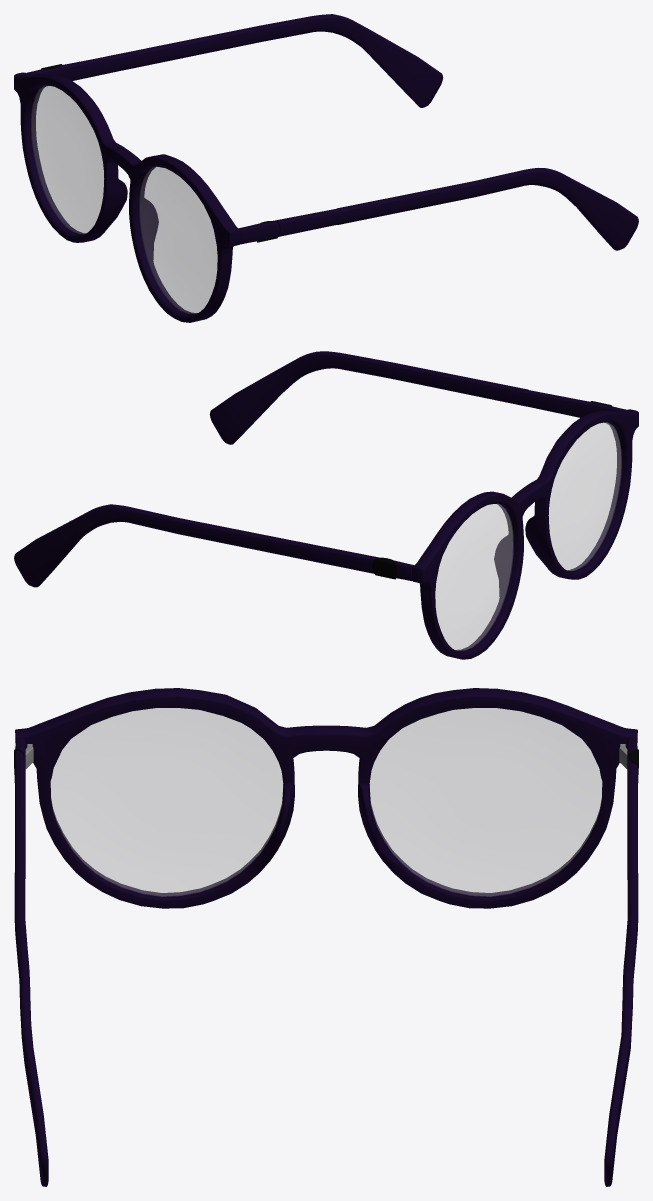
The model's file is sunglasses_maxco..glb.
3 views of the same model, one above another, from view 1: azimuth 30°, elevation 25°; view 2: azimuth 150°, elevation 25°; view 3: azimuth 270°, elevation 25° (orthographic). The views are drawn at different scales.
Parts seen in each view (by area): view 1: Cube.001, Cylinder, Cube; view 2: Cube.001, Cylinder, Cube, Cube.004; view 3: Cylinder, Cube, Cube.001.
Boxes of the visible parts, x1=… form: Cube.001: x1=26, y1=14, x2=638, y2=250; Cylinder: x1=31, y1=85, x2=217, y2=313; Cube: x1=14, y1=72, x2=240, y2=322; Cube.001: x1=14, y1=351, x2=626, y2=587; Cylinder: x1=435, y1=422, x2=621, y2=650; Cube: x1=412, y1=409, x2=638, y2=659; Cube.004: x1=372, y1=401, x2=611, y2=579; Cylinder: x1=51, y1=708, x2=601, y2=896; Cube: x1=15, y1=688, x2=637, y2=908; Cube.001: x1=14, y1=738, x2=638, y2=1186.
Bounding box in the file's own units: 0.3515 × 0.1193 × 0.3114.
